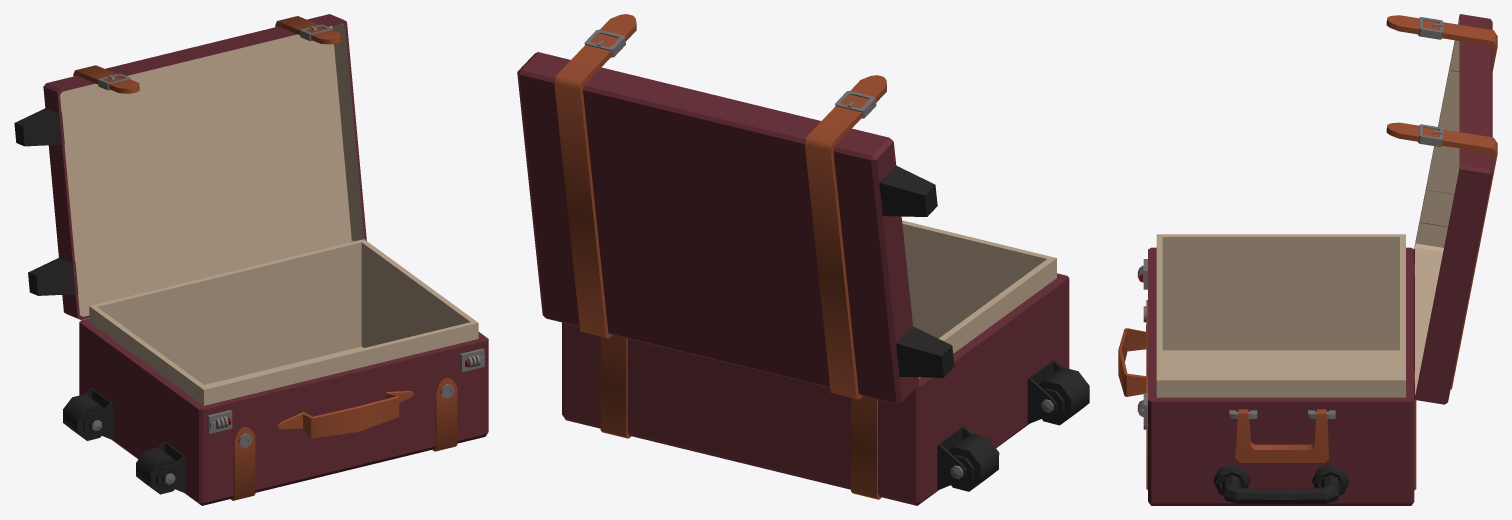
The model's file is 75_prop_traveling bag.FBX.
3 renders of one model, left to right at view 1: azimuth 30°, elevation 25°; view 2: azimuth 150°, elevation 25°; view 3: azimuth 270°, elevation 25°, orthographic. The views are drawn at different scales.
Visible parts, largest first — view 1: prop_traveling bag; view 2: prop_traveling bag; view 3: prop_traveling bag.
Boxes of the visible parts, left/top/right/bottom form: prop_traveling bag: left=14, top=14, right=488, bottom=505; prop_traveling bag: left=517, top=14, right=1089, bottom=505; prop_traveling bag: left=1118, top=14, right=1497, bottom=505.
Bounding box in the file's own units: 67.25 × 59.19 × 56.46.
